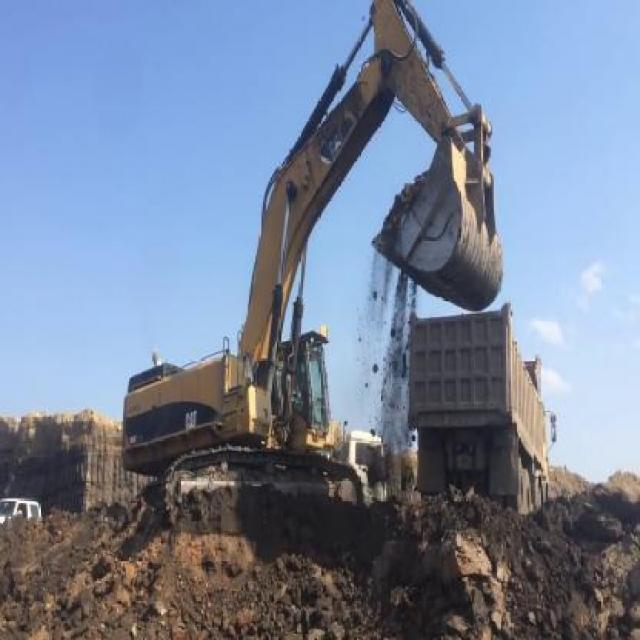Dump Truck: (409, 297, 562, 523)
Excavator: (97, 0, 506, 543)
